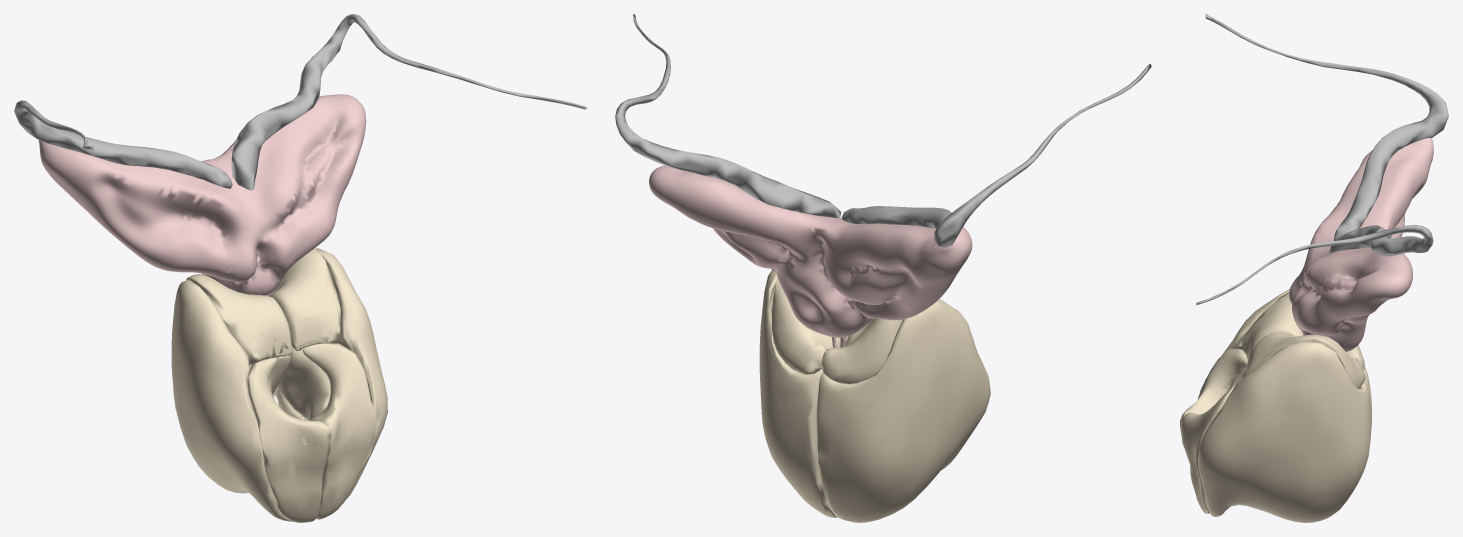
File: vh_m_prostate-80.glb
The picture shows the model from 3 angles, left to right: view 1: azimuth 30°, elevation 25°; view 2: azimuth 150°, elevation 25°; view 3: azimuth 270°, elevation 25°; orthographic projection. The views are drawn at different scales.
Visible parts, largest first — view 1: VH_M_seminal_vesicle, VH_M_peripheral_zone_of_prostate_R, VH_M_anterior_fibromuscular_stroma_R, VH_M_anterior_fibromuscular_stroma_L, VH_M_vas_deferens_R, VH_M_vas_deferens_L, VH_M_central_zone_of_prostate_L, VH_M_peripheral_zone_of_prostate_L, VH_M_central_zone_of_prostate_R, VH_M_base_of_prostate, VH_M_transition_zone__of_prostate_L; view 2: VH_M_peripheral_zone_of_prostate_R, VH_M_seminal_vesicle, VH_M_peripheral_zone_of_prostate_L, VH_M_vas_deferens_R, VH_M_vas_deferens_L, VH_M_central_zone_of_prostate_R, VH_M_central_zone_of_prostate_L; view 3: VH_M_peripheral_zone_of_prostate_L, VH_M_seminal_vesicle, VH_M_vas_deferens_L, VH_M_vas_deferens_R, VH_M_central_zone_of_prostate_L, VH_M_central_zone_of_prostate_R, VH_M_anterior_fibromuscular_stroma_L, VH_M_anterior_fibromuscular_stroma_R, VH_M_base_of_prostate, VH_M_peripheral_zone_of_prostate_R.
Part boxes in pixels (<box>): VH_M_seminal_vesicle: <box>39,94,366,295</box>; VH_M_peripheral_zone_of_prostate_R: <box>171,280,293,521</box>; VH_M_anterior_fibromuscular_stroma_R: <box>248,357,329,522</box>; VH_M_anterior_fibromuscular_stroma_L: <box>302,343,375,519</box>; VH_M_vas_deferens_R: <box>231,14,586,190</box>; VH_M_vas_deferens_L: <box>14,100,232,188</box>; VH_M_central_zone_of_prostate_L: <box>267,248,340,387</box>; VH_M_peripheral_zone_of_prostate_L: <box>272,248,387,499</box>; VH_M_central_zone_of_prostate_R: <box>186,274,292,364</box>; VH_M_base_of_prostate: <box>235,317,367,454</box>; VH_M_transition_zone__of_prostate_L: <box>277,346,330,420</box>; VH_M_peripheral_zone_of_prostate_R: <box>816,299,990,522</box>; VH_M_seminal_vesicle: <box>649,165,972,337</box>; VH_M_peripheral_zone_of_prostate_L: <box>759,270,837,517</box>; VH_M_vas_deferens_R: <box>615,14,840,217</box>; VH_M_vas_deferens_L: <box>841,64,1151,247</box>; VH_M_central_zone_of_prostate_R: <box>821,318,902,383</box>; VH_M_central_zone_of_prostate_L: <box>772,277,848,374</box>; VH_M_peripheral_zone_of_prostate_L: <box>1198,342,1371,522</box>; VH_M_seminal_vesicle: <box>1289,138,1433,351</box>; VH_M_vas_deferens_L: <box>1205,14,1448,240</box>; VH_M_vas_deferens_R: <box>1196,225,1433,305</box>; VH_M_central_zone_of_prostate_L: <box>1241,332,1365,388</box>; VH_M_central_zone_of_prostate_R: <box>1241,292,1364,369</box>; VH_M_anterior_fibromuscular_stroma_L: <box>1181,379,1241,513</box>; VH_M_anterior_fibromuscular_stroma_R: <box>1180,349,1247,443</box>; VH_M_base_of_prostate: <box>1182,325,1253,447</box>; VH_M_peripheral_zone_of_prostate_R: <box>1200,289,1371,409</box>.
Bounding box in the file's own units: 0.083 × 0.0706 × 0.0428.
